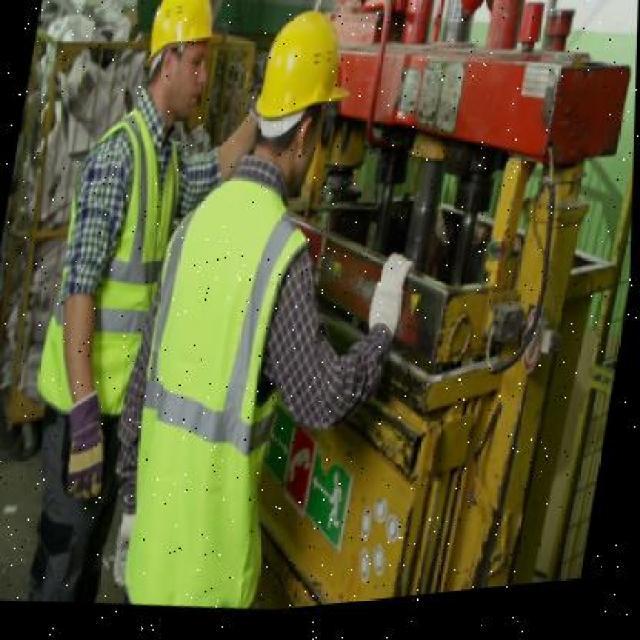helmet: (242, 3, 365, 149), (137, 0, 224, 90)
vest: (117, 186, 321, 624), (34, 94, 194, 436)
